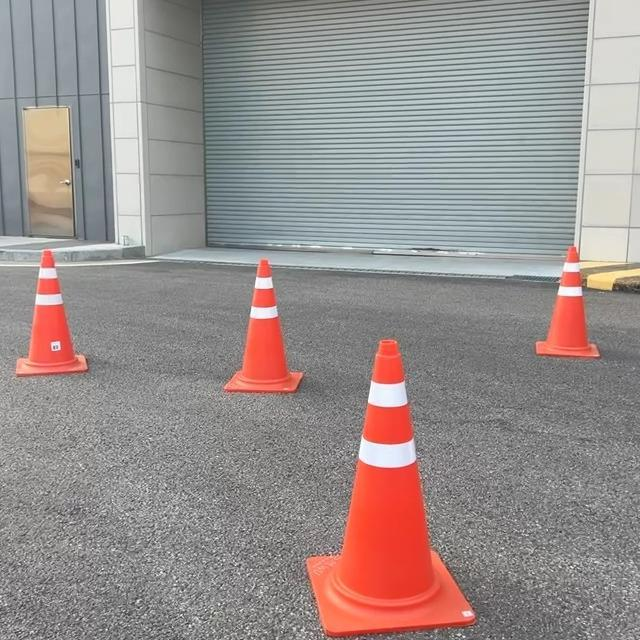fallen_object: (230, 315, 485, 622), (515, 236, 633, 401), (0, 250, 126, 394), (200, 230, 301, 397)
